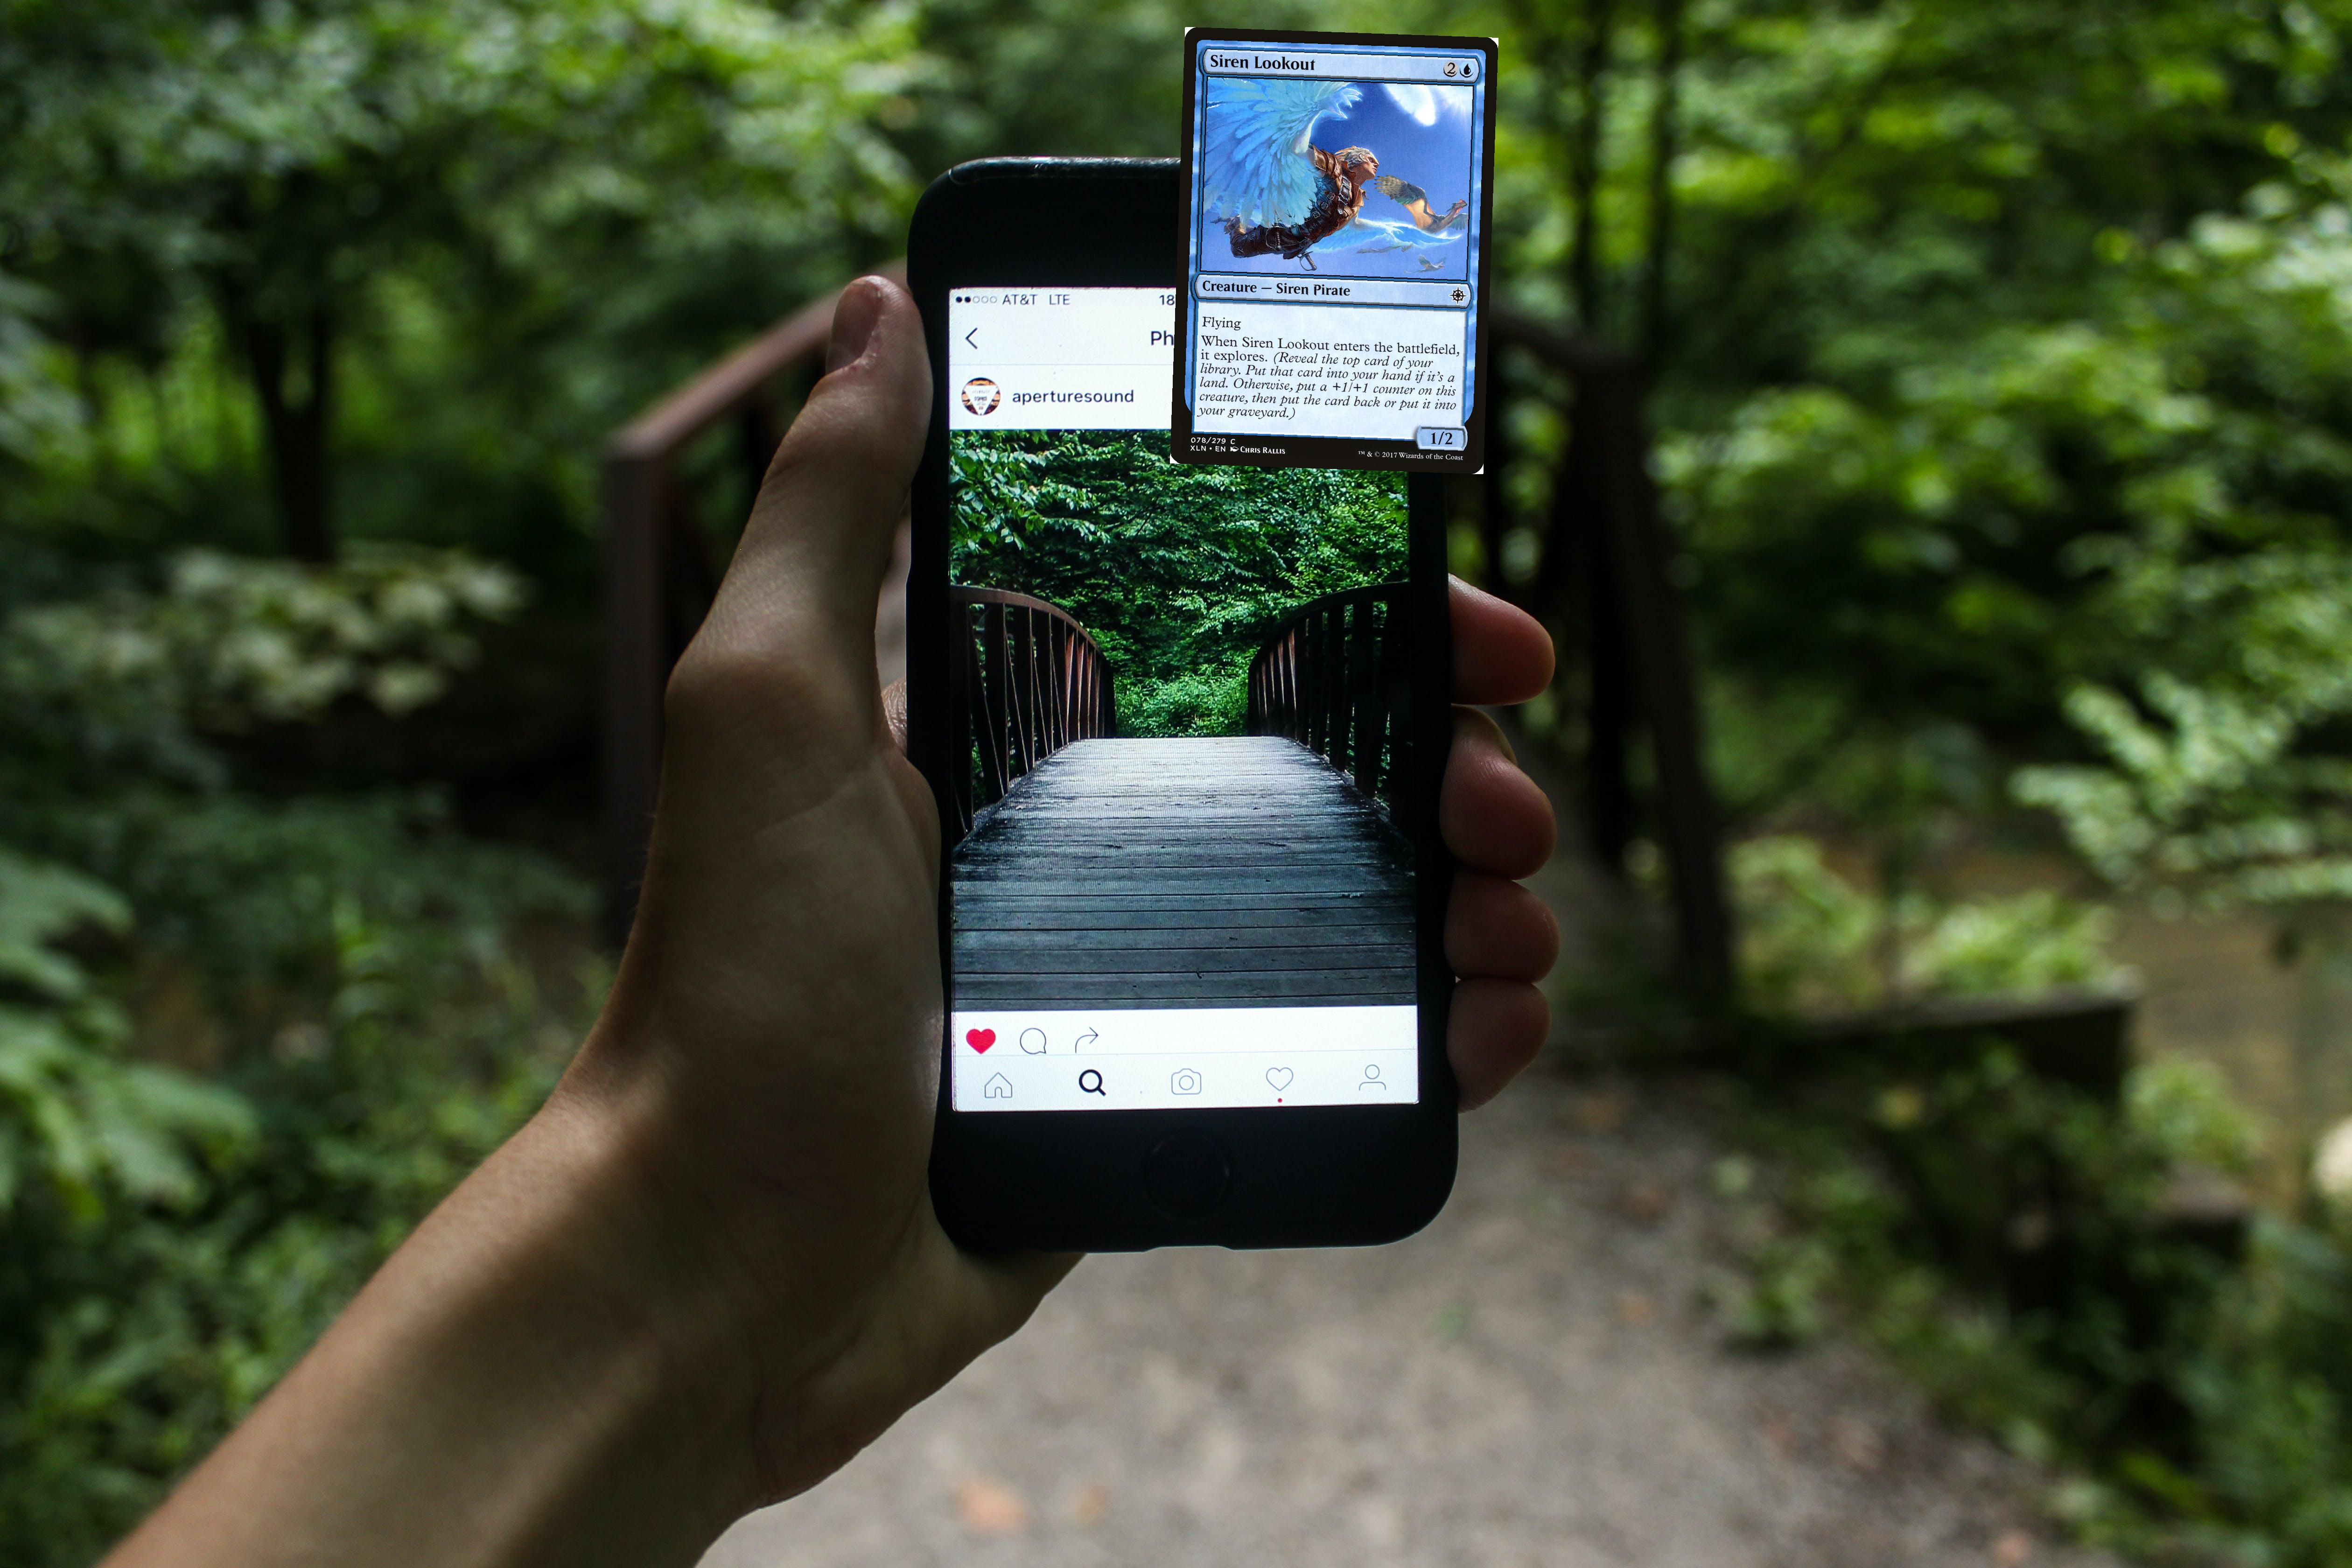mtgCard: (1169, 26, 1500, 474)
